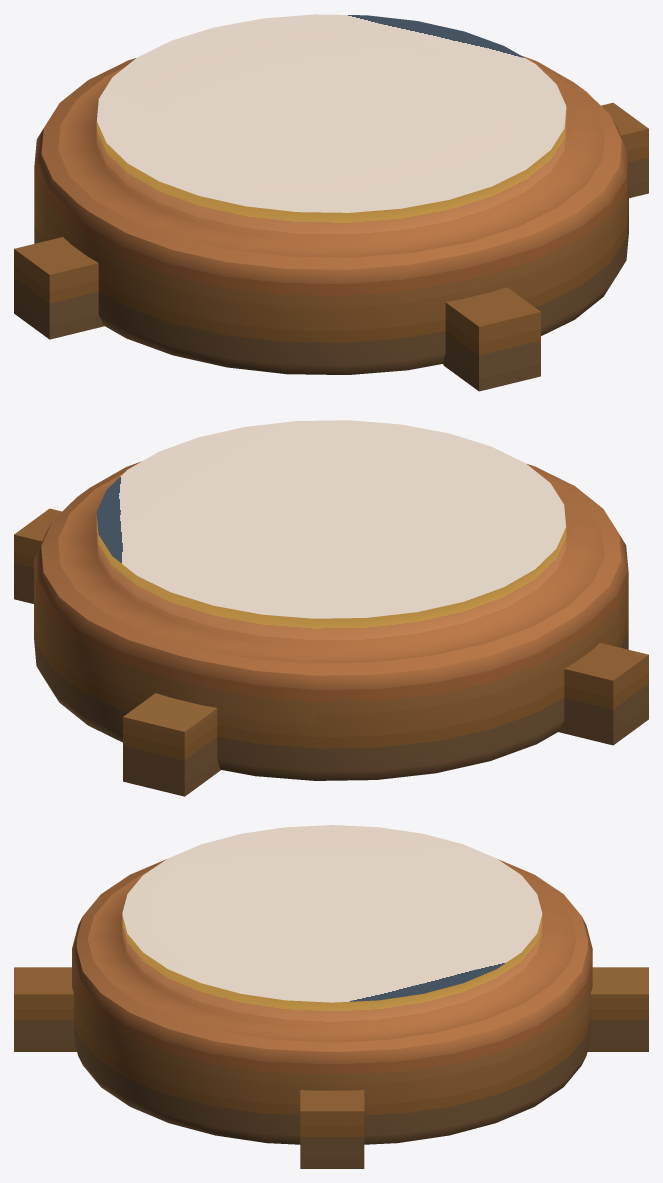
Rendered from Prop_SnowGlobe_01.glb.
3 views of the same model, one above another, from view 1: azimuth 30°, elevation 25°; view 2: azimuth 150°, elevation 25°; view 3: azimuth 270°, elevation 25° (orthographic). The views are drawn at different scales.
Visible parts, largest first — view 1: Prop_SnowGlobe_01; view 2: Prop_SnowGlobe_01; view 3: Prop_SnowGlobe_01.
Boxes of the visible parts, x1=… form: Prop_SnowGlobe_01: x1=14, y1=14, x2=648, y2=391; Prop_SnowGlobe_01: x1=14, y1=420, x2=648, y2=796; Prop_SnowGlobe_01: x1=14, y1=825, x2=648, y2=1168.
Bounding box in the file's own units: 4.02 × 0.9213 × 4.13.
1 material, 1 textured.
